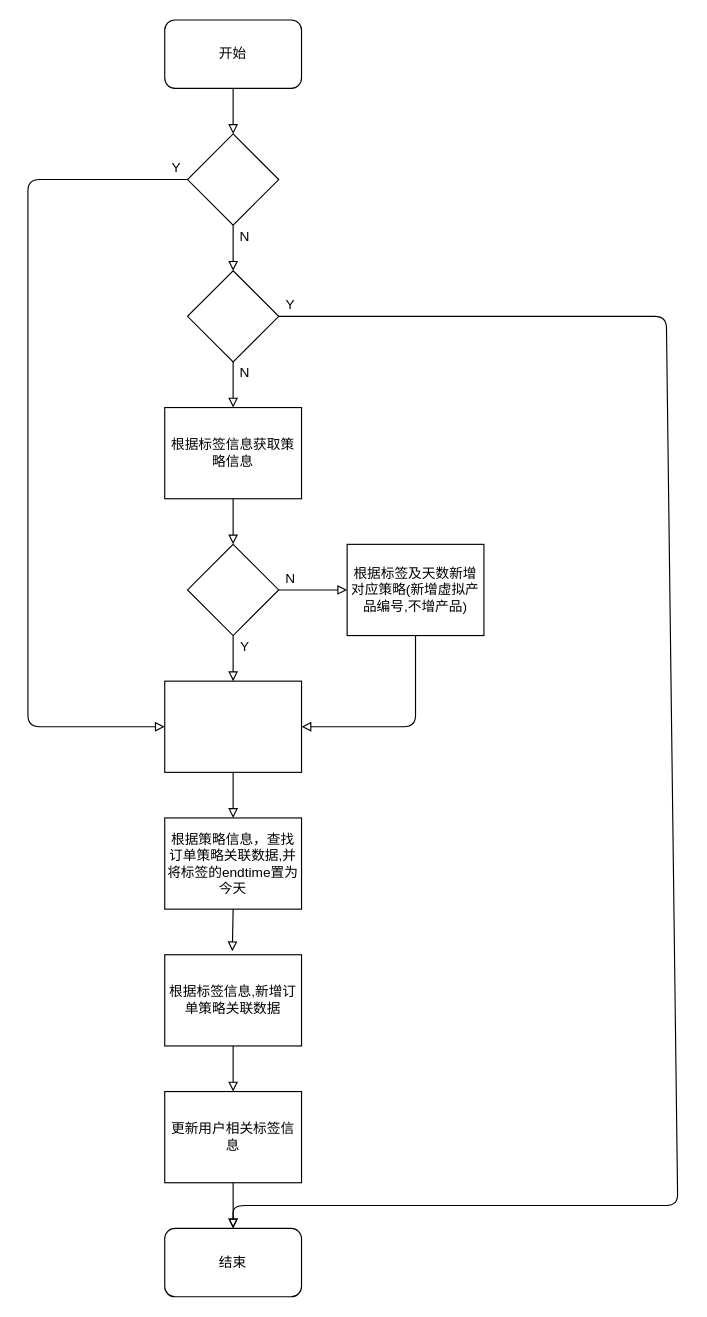
Image size: 707x1317. Some labels were removed from this diagram. The shapes that lost their labels are listed below. From the top down, each one's centre as x and y in pixels, then its label:
At pixel 232 179: "请求是否存在虚拟产品编号".
At pixel 232 316: "是否存在非行为标签".
At pixel 232 589: "是否存在对应策略".
At pixel 233 726: "返回对应策略信息".
